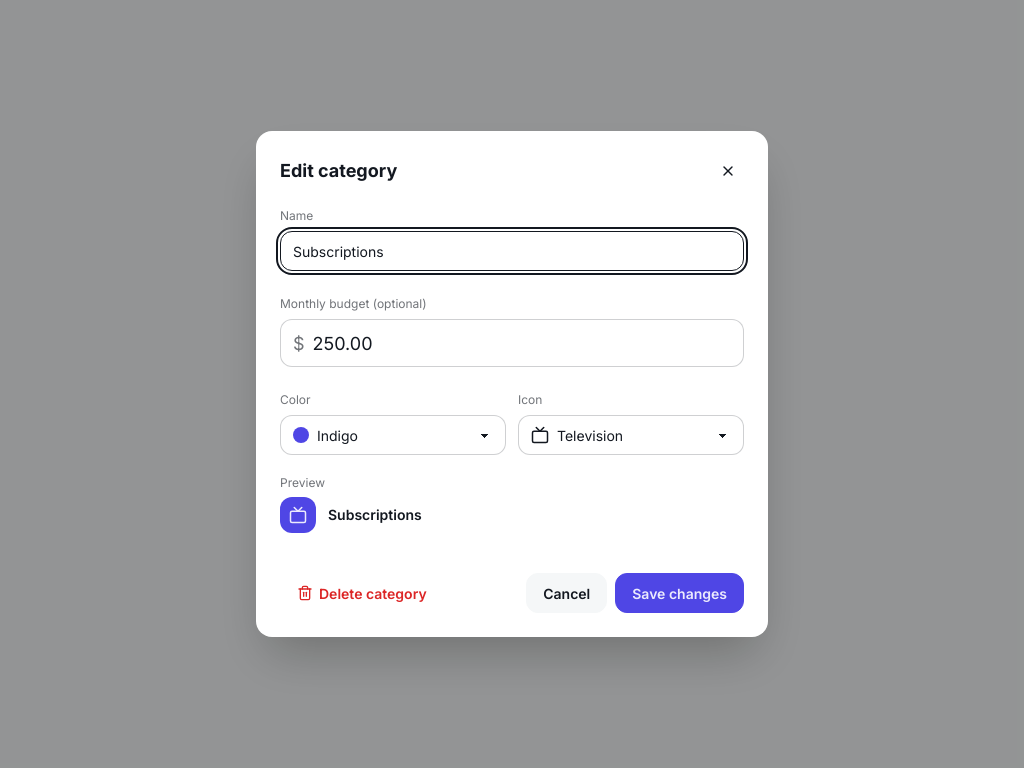
Test: validation › names every invalid field at once rather than stopping at the first
Clear the field labelled "Name" at (512, 251), box 280,231 -> 744,271
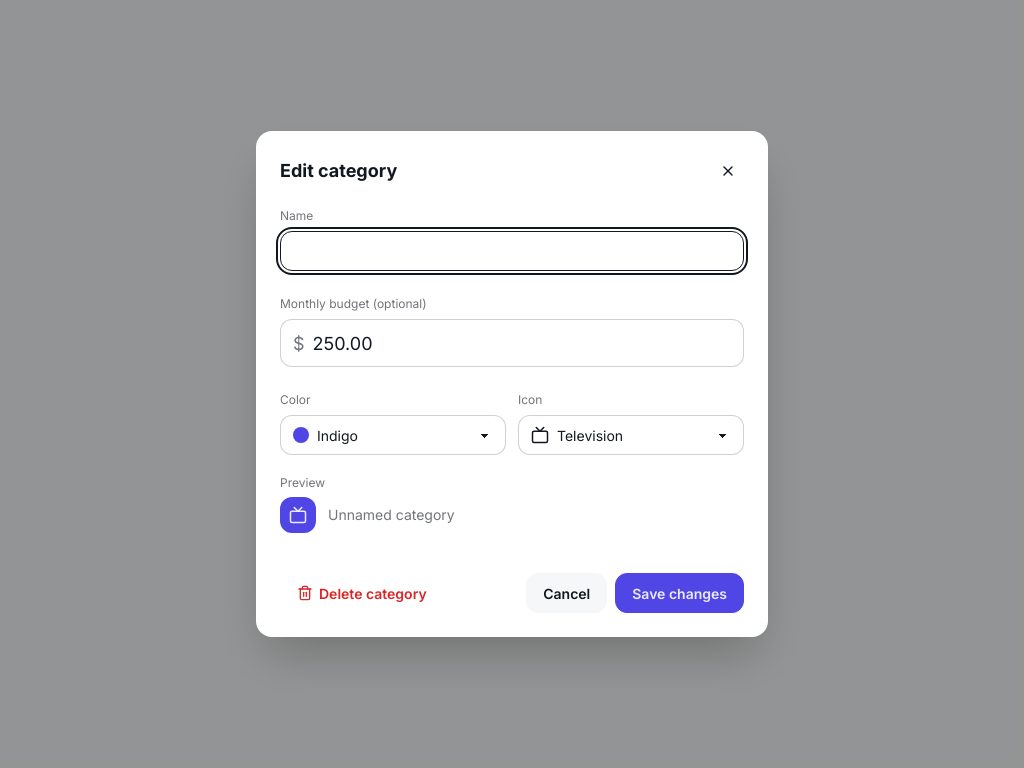
Replace the text in the field labelled "Monthly budget (optional)" with "0" at (522, 343), box 313,320 -> 731,366
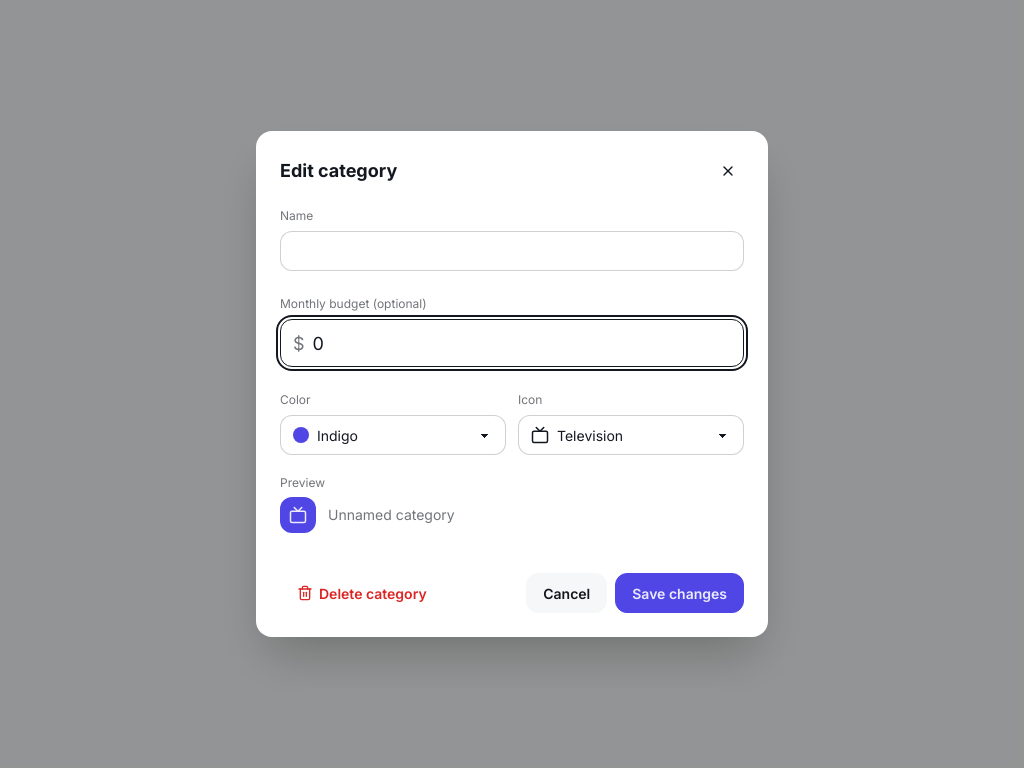
Click the button "Save changes".
click(680, 593)  # box 615,573 -> 744,613
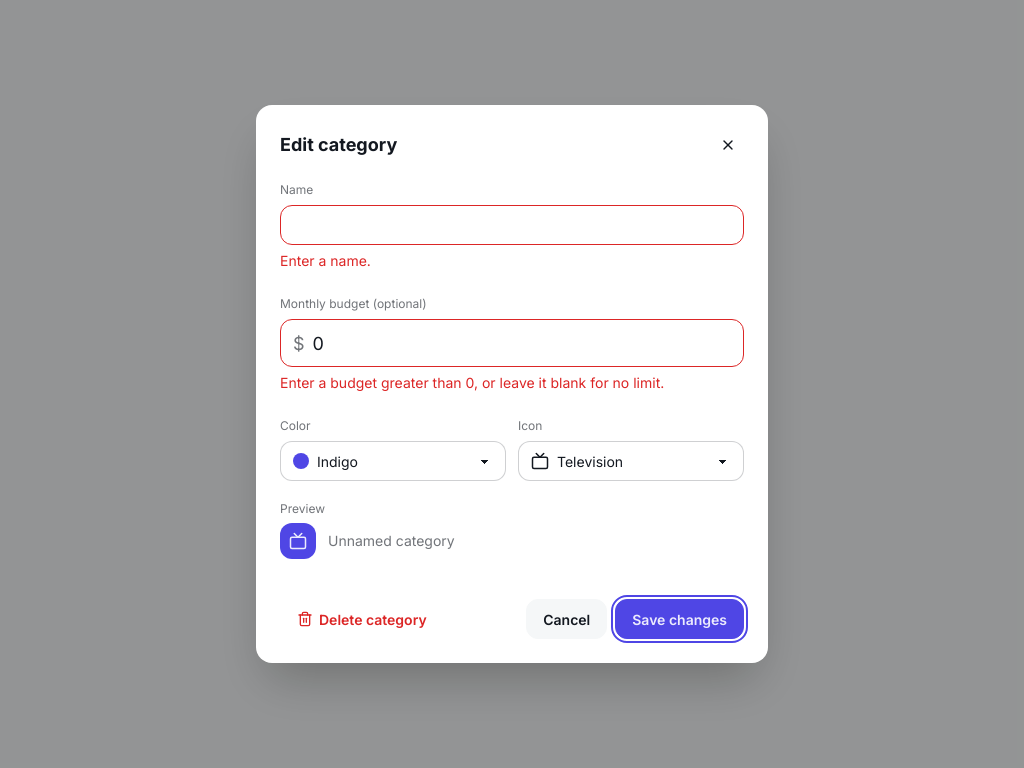
Result: the text "Enter a name." is shown at 280,252 -> 371,269
Result: the text "Enter a budget greater than 0, or leave it blank for no limit." is shown at 280,374 -> 664,391
